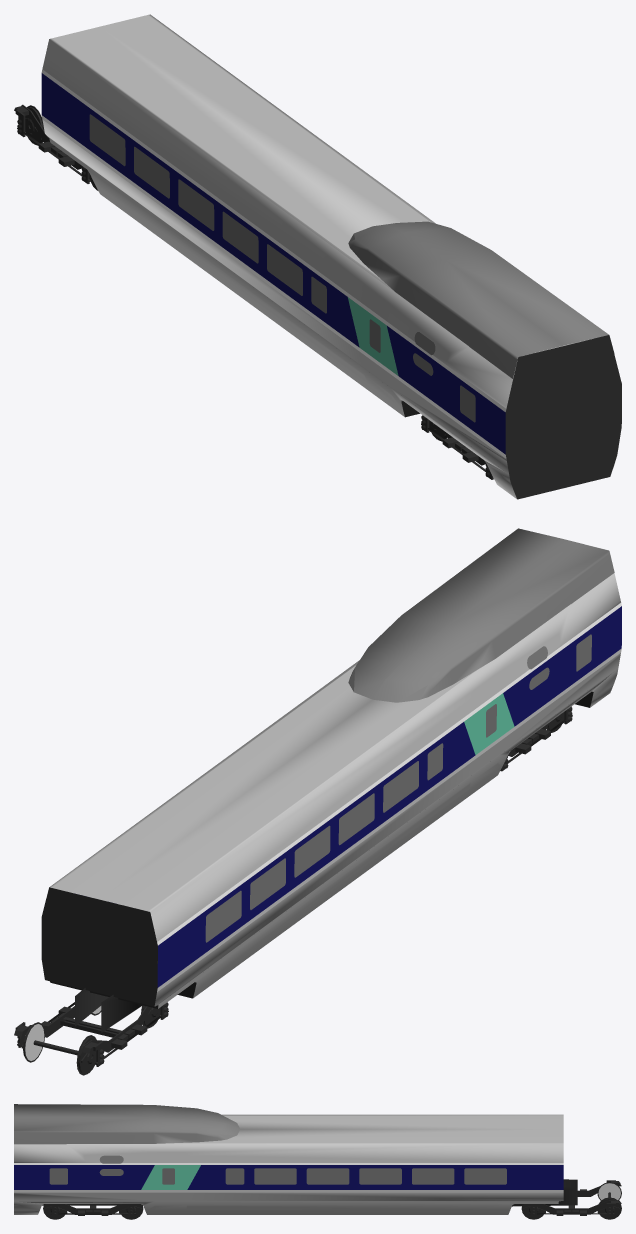
The model's file is TGVReseau_car2.gltf.
3 views of the same model, one above another, from view 1: azimuth 30°, elevation 25°; view 2: azimuth 150°, elevation 25°; view 3: azimuth 270°, elevation 25° (orthographic). The views are drawn at different scales.
Parts seen in each view (by area): view 1: Group#12, Group#12.001, boogie.002, boogie; view 2: Group#12, Group#12.001, boogie.002, boogie.003, boogie; view 3: Group#12.001, Group#12, boogie.003, boogie.001, boogie.002.
Boxes of the visible parts, x1=… form: Group#12: x1=41, y1=26, x2=563, y2=499; Group#12.001: x1=100, y1=14, x2=621, y2=487; boogie.002: x1=14, y1=104, x2=97, y2=190; boogie: x1=421, y1=415, x2=493, y2=479; Group#12: x1=99, y1=539, x2=621, y2=1032; Group#12.001: x1=41, y1=528, x2=563, y2=1026; boogie.002: x1=33, y1=1002, x2=168, y2=1075; boogie.003: x1=14, y1=1002, x2=120, y2=1062; boogie: x1=500, y1=706, x2=572, y2=771; Group#12.001: x1=14, y1=1117, x2=577, y2=1214; Group#12: x1=14, y1=1104, x2=577, y2=1187; boogie.003: x1=521, y1=1193, x2=621, y2=1219; boogie.001: x1=43, y1=1204, x2=143, y2=1219; boogie.002: x1=568, y1=1180, x2=621, y2=1208.
Bounding box in the file's own units: 3.16 × 4.16 × 24.11.
